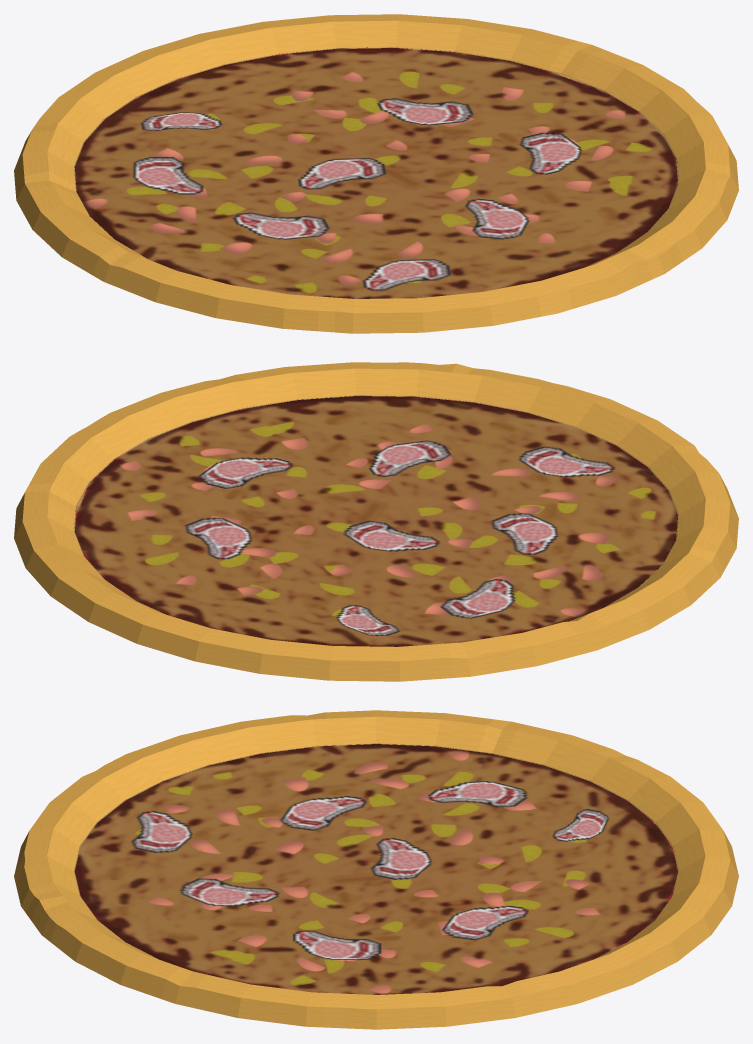
File: WorldItem_PizzaRumHam.fbx
3 views of the same model, one above another, from view 1: azimuth 30°, elevation 25°; view 2: azimuth 150°, elevation 25°; view 3: azimuth 270°, elevation 25° (orthographic).
Parts seen in each view (by area): view 1: Pizza; view 2: Pizza; view 3: Pizza.
Part boxes in pixels (box(x1,y1,x2,y2)): Pizza: box(14, 14, 738, 333); Pizza: box(14, 362, 738, 681); Pizza: box(14, 710, 738, 1029).
Bounding box in the file's own units: 45.79 × 2.22 × 45.79.
